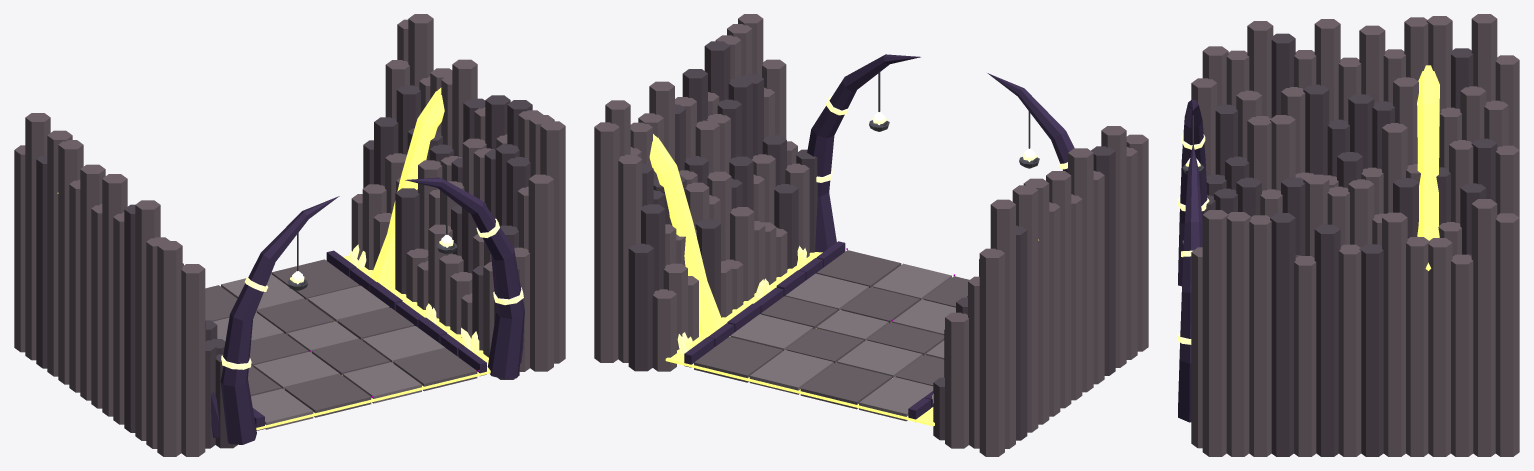
File: volcano_track.fbx
3 renders of one model, left to right at view 1: azimuth 30°, elevation 25°; view 2: azimuth 150°, elevation 25°; view 3: azimuth 270°, elevation 25°, orthographic.
Parts seen in each view (by area): view 1: Rock_volcano_track, RockDark_volcano_track, Obsidian_volcano_track, BasaltDark_volcano_track, Basalt_volcano_track, Lava_volcano_track, Ember_volcano_track, Crystal_volcano_track; view 2: Rock_volcano_track, RockDark_volcano_track, BasaltDark_volcano_track, Basalt_volcano_track, Obsidian_volcano_track, Lava_volcano_track, Crystal_volcano_track, Iron_volcano_track; view 3: Rock_volcano_track, RockDark_volcano_track, Obsidian_volcano_track, Lava_volcano_track, Ember_volcano_track.
Boxes of the visible parts, x1,y1,x2,y2 form: Rock_volcano_track: [14, 14, 565, 456]; RockDark_volcano_track: [36, 85, 532, 448]; Obsidian_volcano_track: [211, 177, 524, 444]; BasaltDark_volcano_track: [205, 259, 477, 417]; Basalt_volcano_track: [213, 274, 445, 429]; Lava_volcano_track: [57, 87, 490, 430]; Ember_volcano_track: [221, 218, 523, 369]; Crystal_volcano_track: [349, 244, 479, 352]; Rock_volcano_track: [594, 14, 1148, 456]; RockDark_volcano_track: [628, 41, 1115, 440]; BasaltDark_volcano_track: [694, 250, 969, 409]; Basalt_volcano_track: [730, 263, 955, 421]; Obsidian_volcano_track: [684, 54, 1074, 419]; Lava_volcano_track: [649, 134, 1038, 426]; Crystal_volcano_track: [677, 246, 933, 412]; Iron_volcano_track: [869, 72, 1039, 168]; Rock_volcano_track: [1191, 14, 1519, 456]; RockDark_volcano_track: [1204, 33, 1497, 456]; Obsidian_volcano_track: [1178, 99, 1207, 422]; Lava_volcano_track: [1417, 65, 1439, 270]; Ember_volcano_track: [1177, 132, 1209, 344].
Size of the model in its own units: 75.46 by 43.7 by 54.61.
